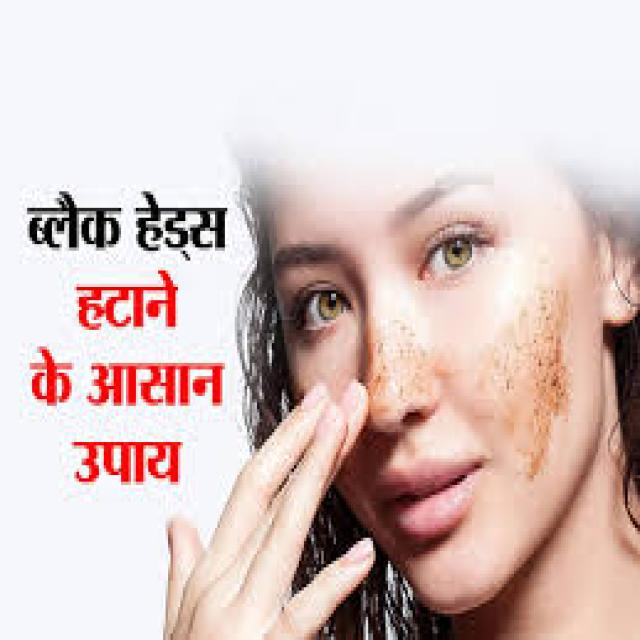Black Heads: (492, 311, 581, 482), (378, 325, 423, 408)
